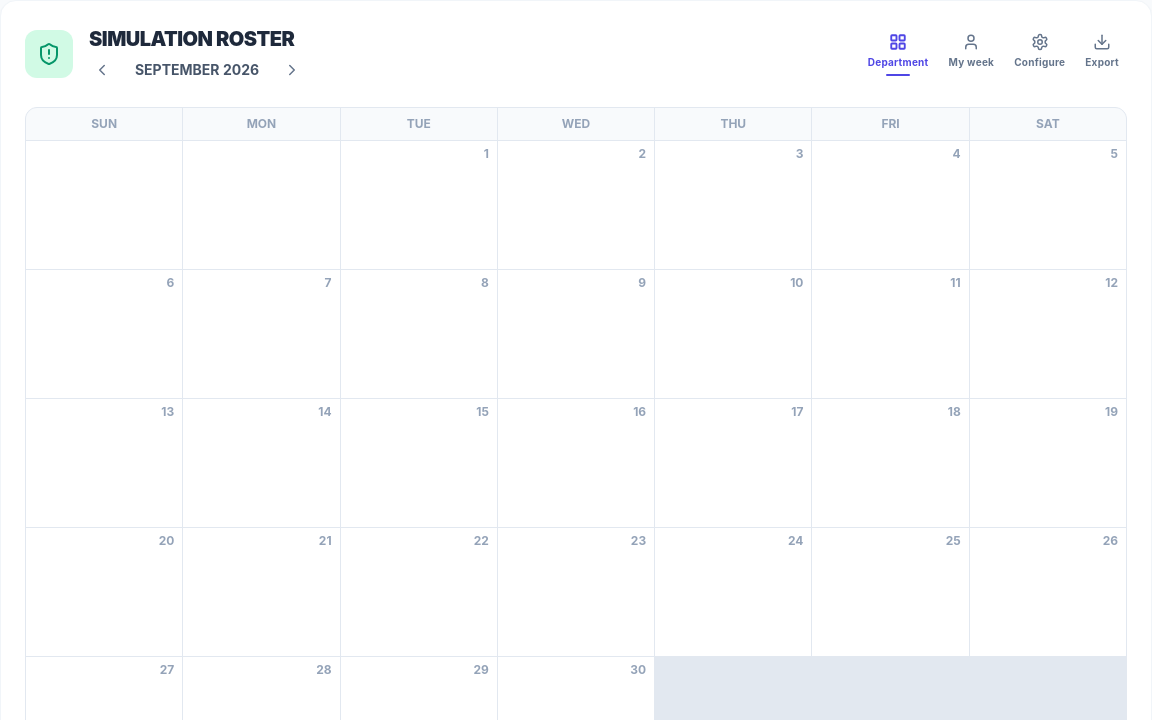
Test: overlay portals — escape the RosterView stacking context › unmounting removes the portaled overlay from document.body (no orphans)
Click the button "Configure" at (1040, 54), box x1=1006 y1=26 x2=1073 y2=82
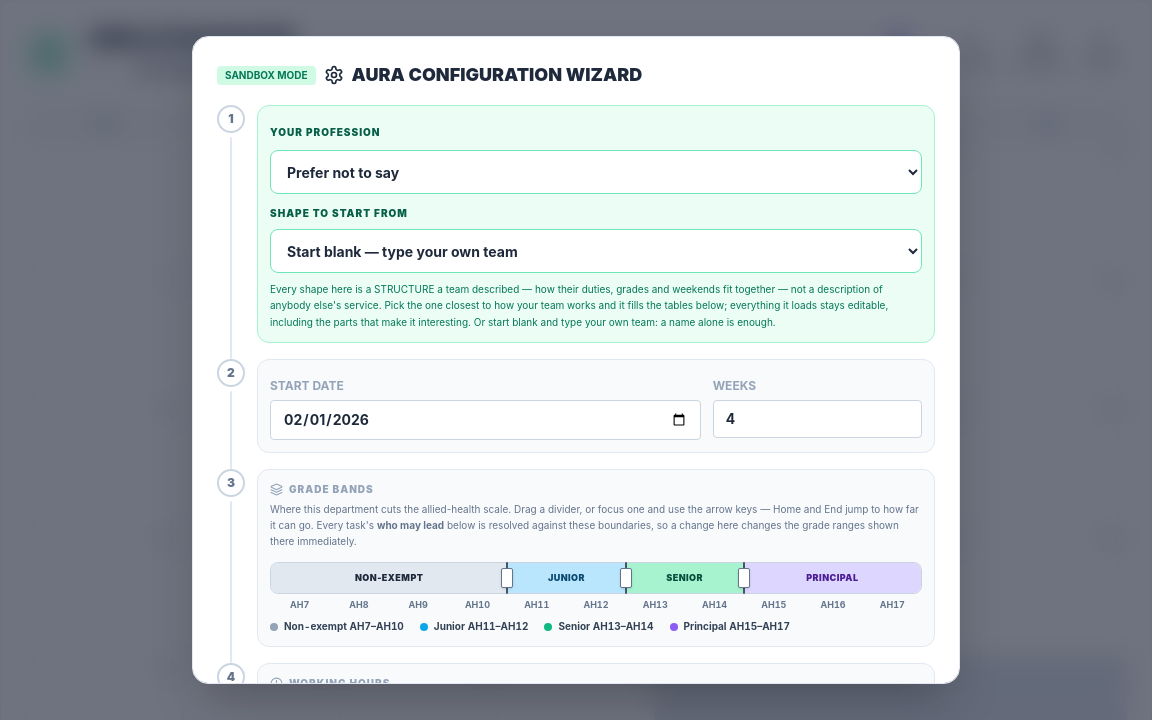
Check: the element that starts with "SANDBOX MODE" is shown
